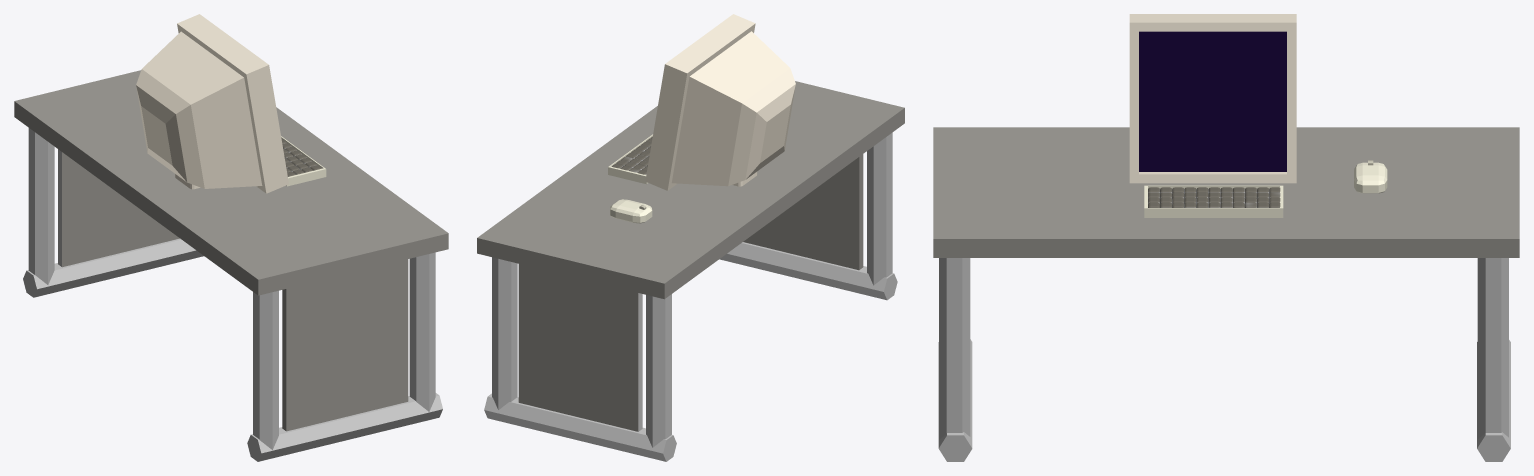
3 renders of one model, left to right at view 1: azimuth 30°, elevation 25°; view 2: azimuth 150°, elevation 25°; view 3: azimuth 270°, elevation 25°, orthographic. The views are drawn at different scales.
Visible parts, largest first — view 1: Kostka.004; view 2: Kostka.004; view 3: Kostka.004.
Part boxes in pixels (x1,y1,x2,y2): Kostka.004: (14,14,448,461); Kostka.004: (477,14,904,461); Kostka.004: (933,14,1519,461).
Bounding box in the file's own units: 316 × 508 × 702.
1 material, 1 textured.
